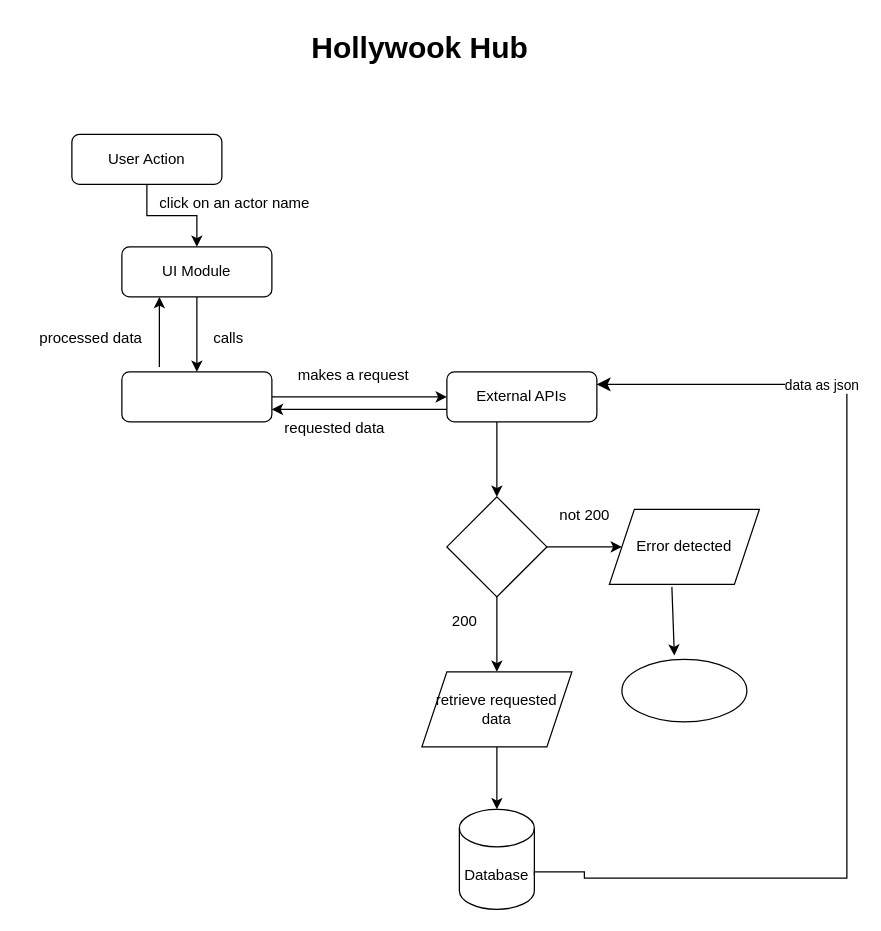
Image size: 881x931. Some labels were removed from this diagram. The shapes that lost their labels are listed below. From the top down, each one's centre as x and y in pixels, then its label:
At pixel 196 396: "processing Module".
At pixel 496 546: "response".
At pixel 684 690: "Exit Programm".
